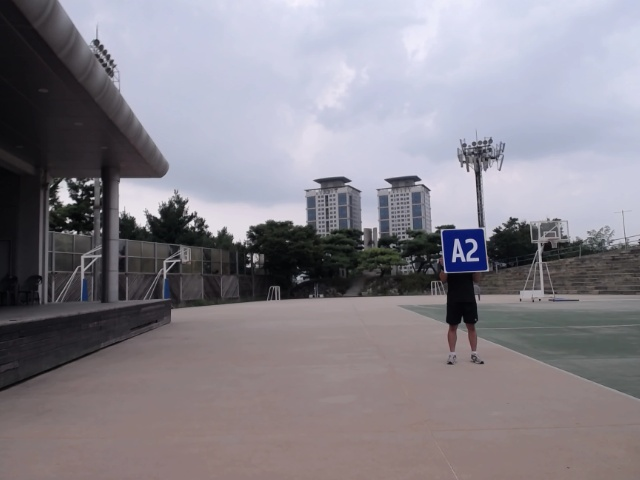delivery_a2: (442, 229, 489, 272)
